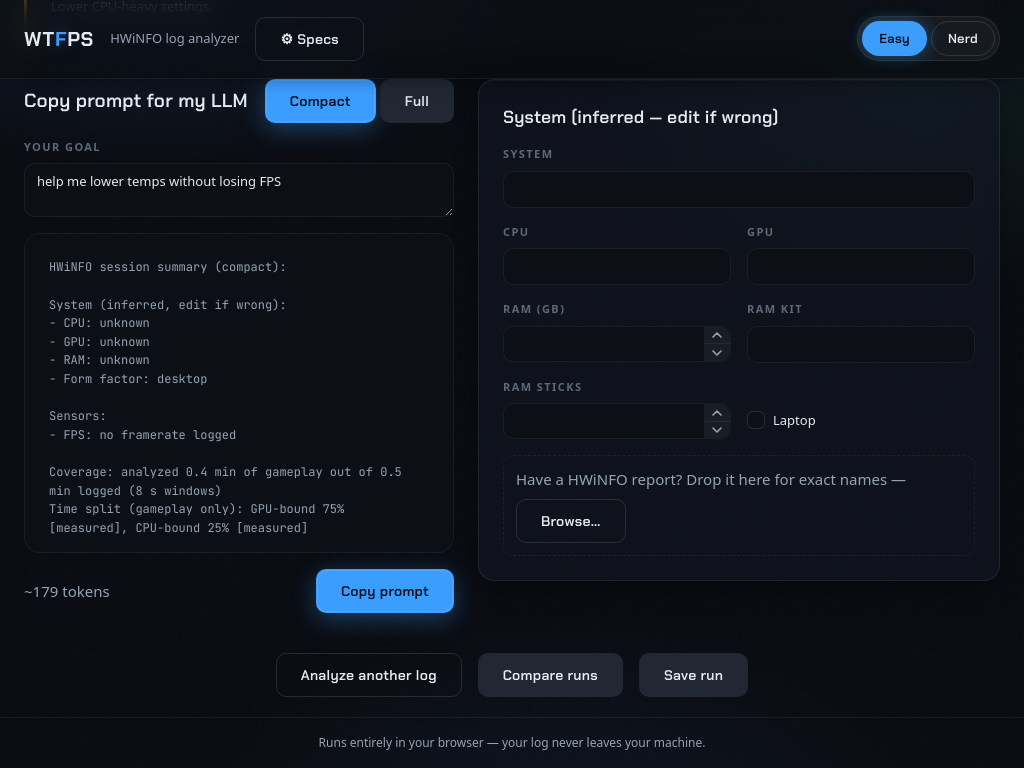
Test: explicit run save › Save run persists exactly one run and flips to a disabled Saved state
(page scrolled)
Click the button "Save run". click: {"x": 694, "y": 676}
box: [639,654,748,698]
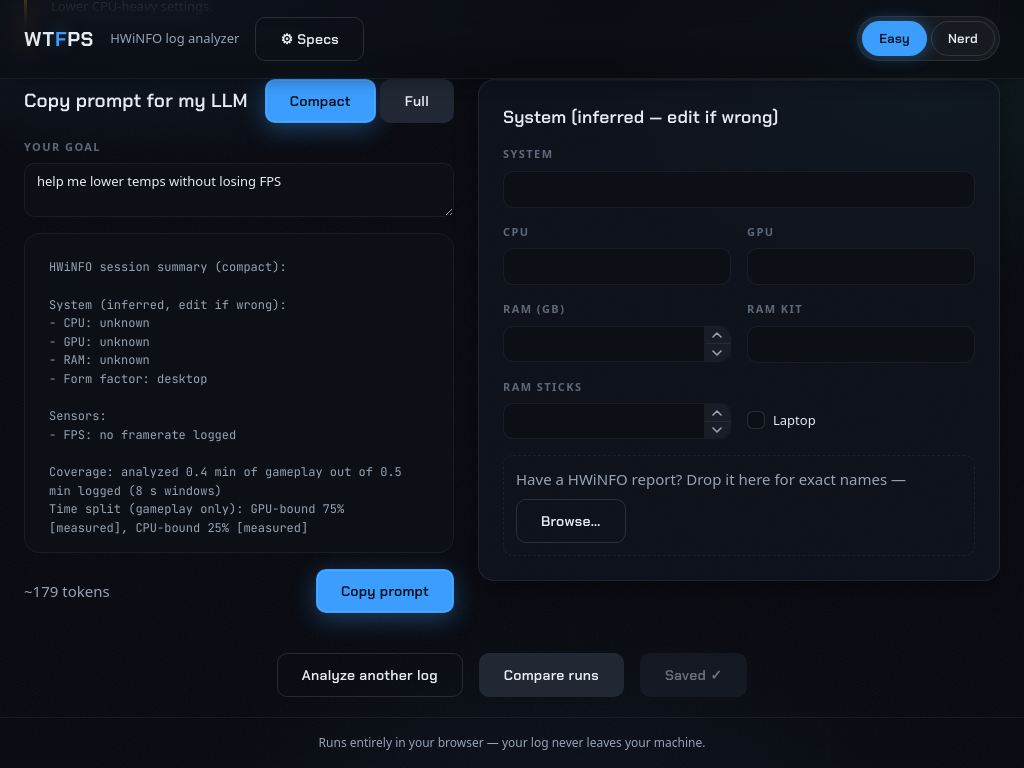
expect the button "Saved ✓" is disabled: met, box [640,654,747,698]
expect the button "Save run" is gone: met
